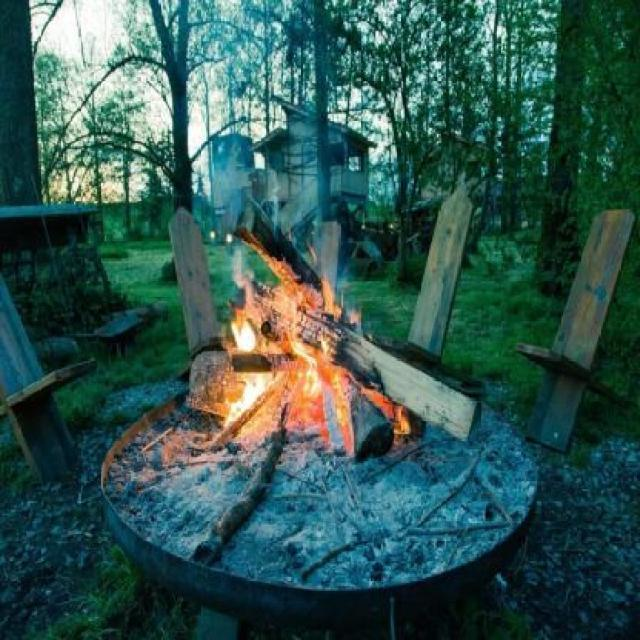Fire: (175, 243, 418, 468)
Smoke: (207, 0, 367, 332)
